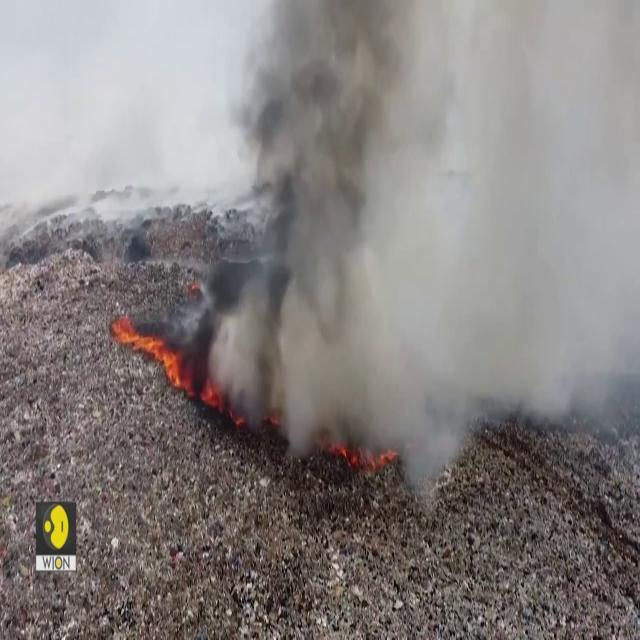Fire: (114, 310, 184, 390), (198, 366, 216, 411)
Smoke: (195, 0, 640, 475)
